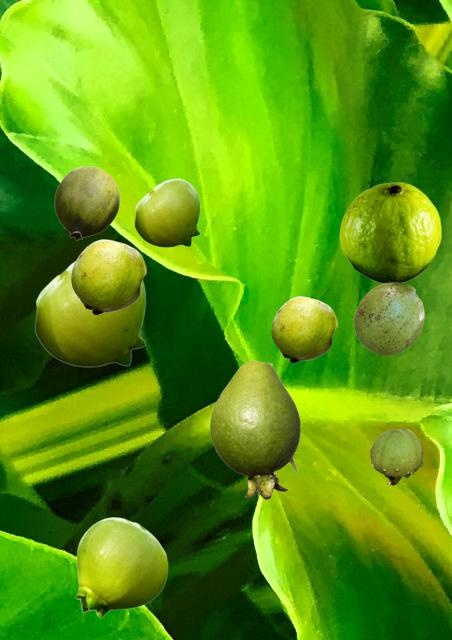guava: (210, 360, 299, 498), (34, 261, 145, 366), (339, 182, 440, 283), (75, 517, 167, 617), (71, 239, 145, 314), (353, 282, 423, 354), (54, 166, 119, 239), (134, 178, 199, 246), (271, 296, 336, 362), (370, 428, 422, 484)
